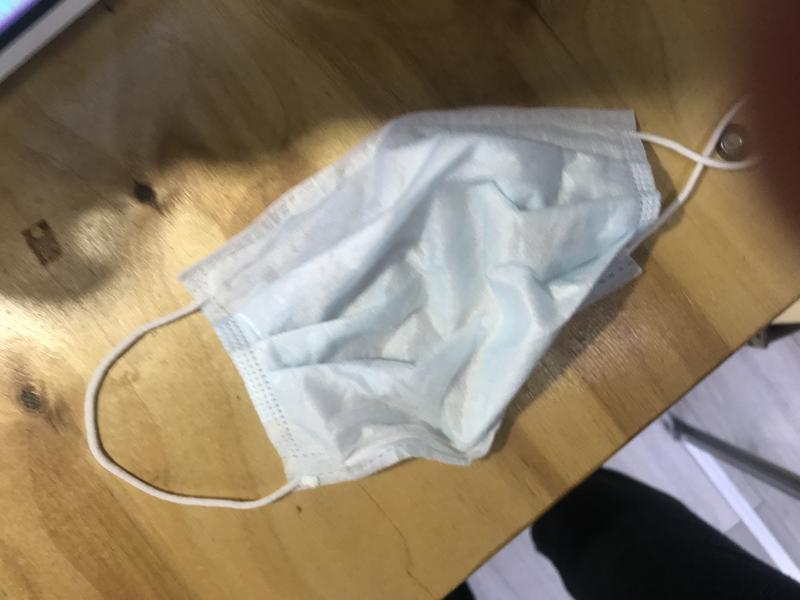medical_mask: (84, 89, 708, 508)
